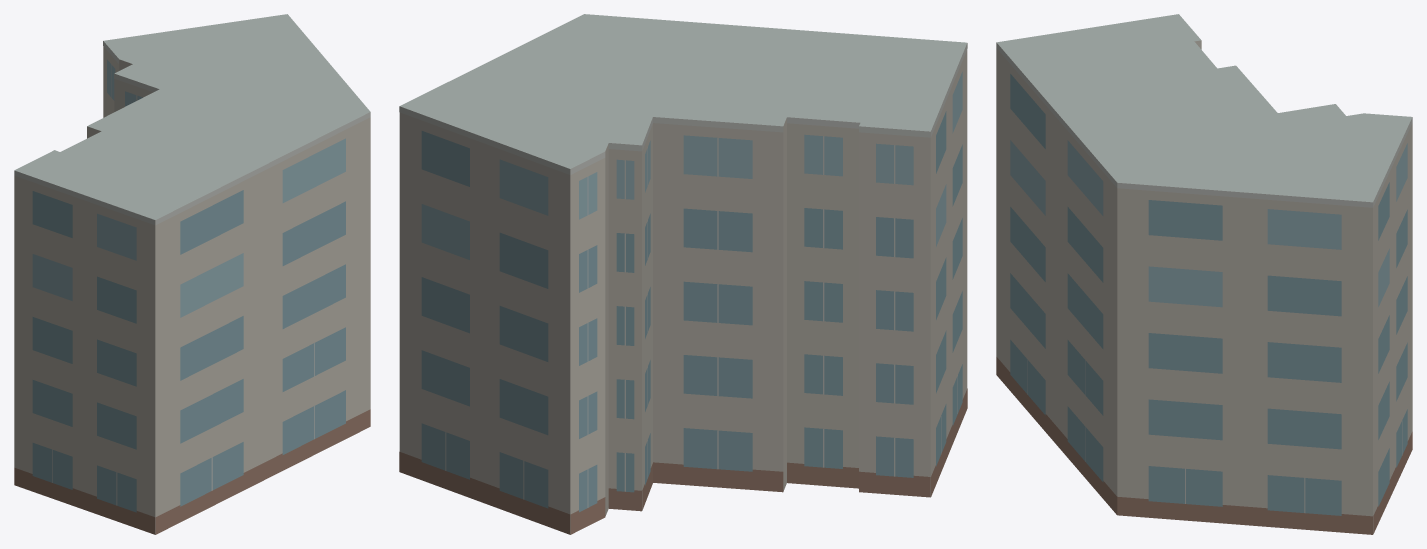
File: survey-upis-32708242.glb
3 renders of one model, left to right at view 1: azimuth 30°, elevation 25°; view 2: azimuth 150°, elevation 25°; view 3: azimuth 270°, elevation 25°, orthographic. The views are drawn at different scales.
Visible parts, largest first — view 1: survey-upis-32708242.tmp; view 2: survey-upis-32708242.tmp; view 3: survey-upis-32708242.tmp.
Boxes of the visible parts, box(x1,y1,x2,y2) form: survey-upis-32708242.tmp: box(14, 14, 370, 534); survey-upis-32708242.tmp: box(399, 14, 967, 534); survey-upis-32708242.tmp: box(996, 14, 1412, 534).
Size of the model in its own units: 17.86 by 14.69 by 16.67.
